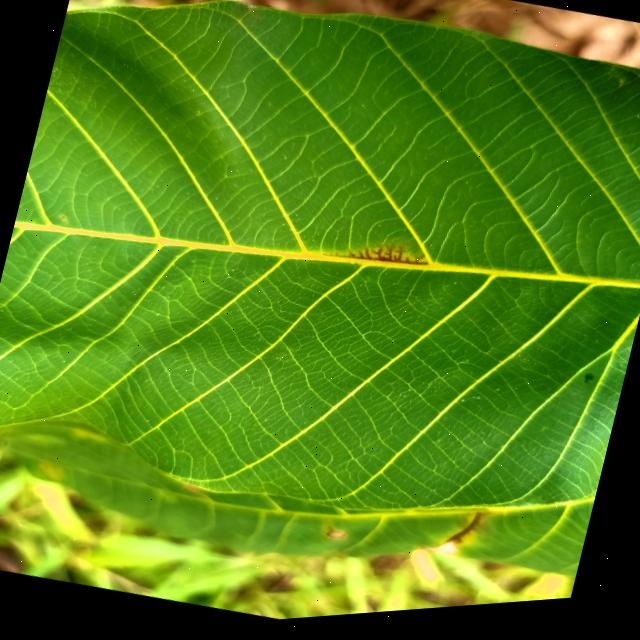Corynespora: (322, 230, 432, 285)
